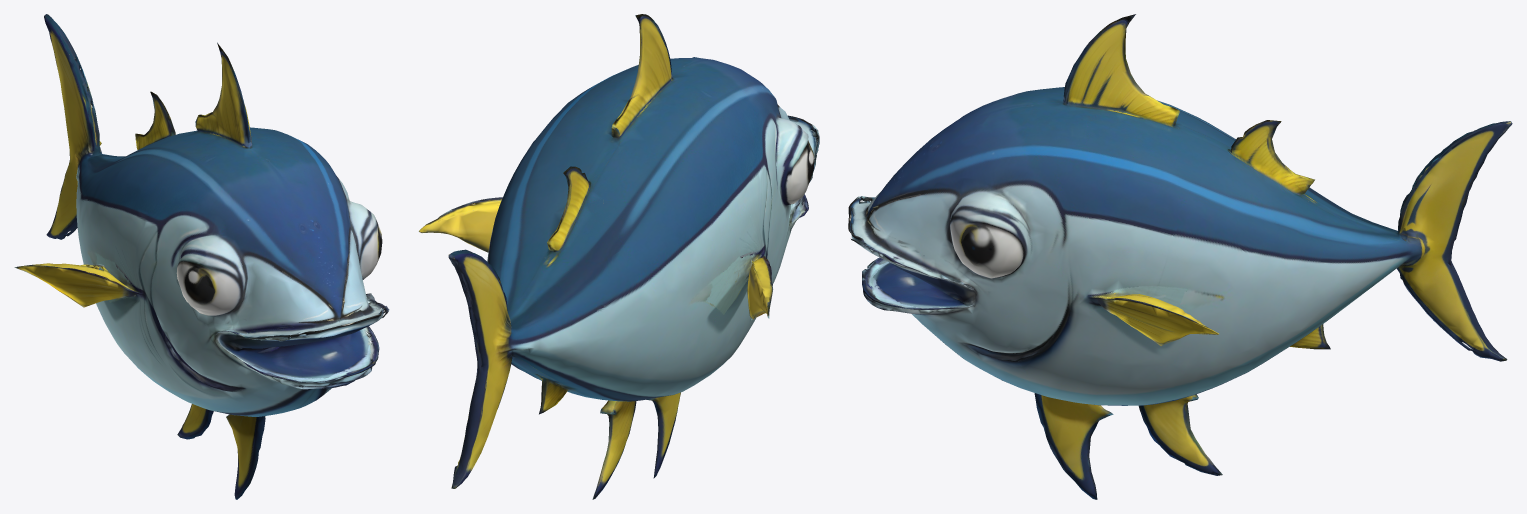
Rendered from fish.glb.
The picture shows the model from 3 angles, left to right: view 1: azimuth 30°, elevation 25°; view 2: azimuth 150°, elevation 25°; view 3: azimuth 270°, elevation 25°; orthographic projection. The views are drawn at different scales.
Size of the model in its own units: 1.24 by 1.61 by 2.
Materials: 1 (1 with a texture image).
